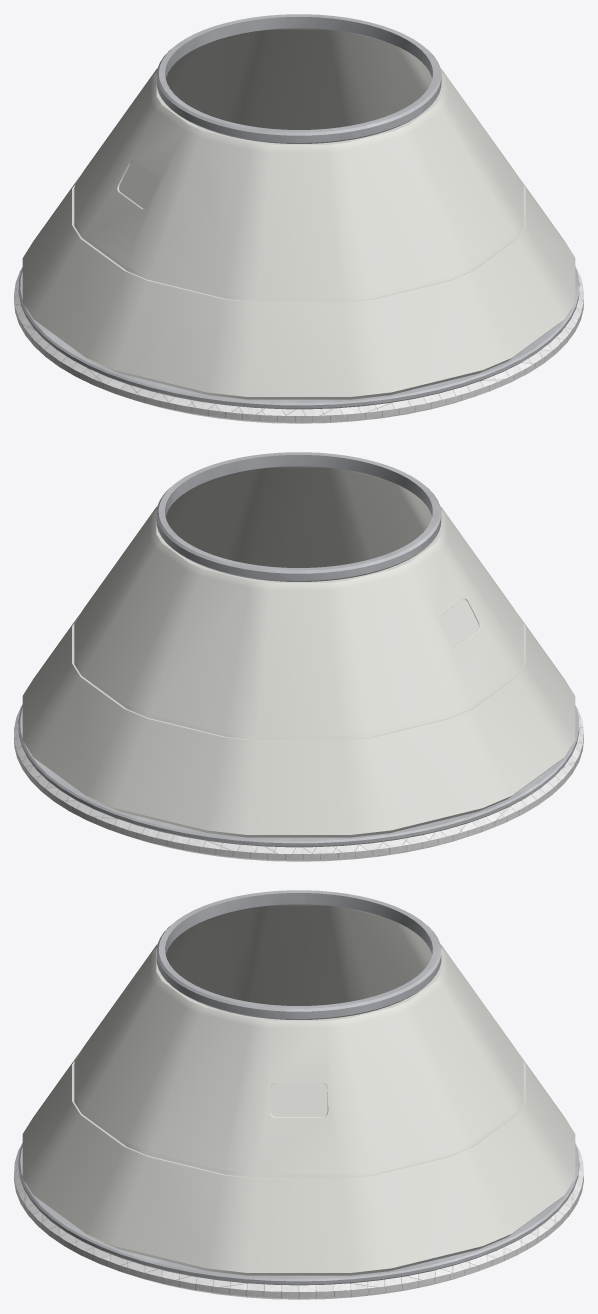
File: ax_struct_15_entry_aeroshell.glb
The picture shows the model from 3 angles, top to bottom: view 1: azimuth 30°, elevation 25°; view 2: azimuth 150°, elevation 25°; view 3: azimuth 270°, elevation 25°; orthographic projection.
Parts seen in each view (by area): view 1: half_a_backshell, backshell_top_ring, half_b_heatshield, shield_carrier_ring; view 2: half_a_backshell, backshell_top_ring, half_b_heatshield, shield_carrier_ring; view 3: half_a_backshell, backshell_top_ring, half_b_heatshield, shield_carrier_ring.
Part boxes in pixels (<box>): half_a_backshell: <box>22,28,575,399</box>; backshell_top_ring: <box>156,14,441,143</box>; half_b_heatshield: <box>14,266,583,423</box>; shield_carrier_ring: <box>18,267,579,409</box>; half_a_backshell: <box>22,466,575,837</box>; backshell_top_ring: <box>156,452,441,581</box>; half_b_heatshield: <box>14,704,583,861</box>; shield_carrier_ring: <box>18,705,579,847</box>; half_a_backshell: <box>22,904,575,1275</box>; backshell_top_ring: <box>156,890,441,1019</box>; half_b_heatshield: <box>14,1143,583,1299</box>; shield_carrier_ring: <box>18,1144,579,1285</box>.
Size of the model in its own units: 5 by 2.94 by 5.
Materials: 4 (3 with a texture image).
